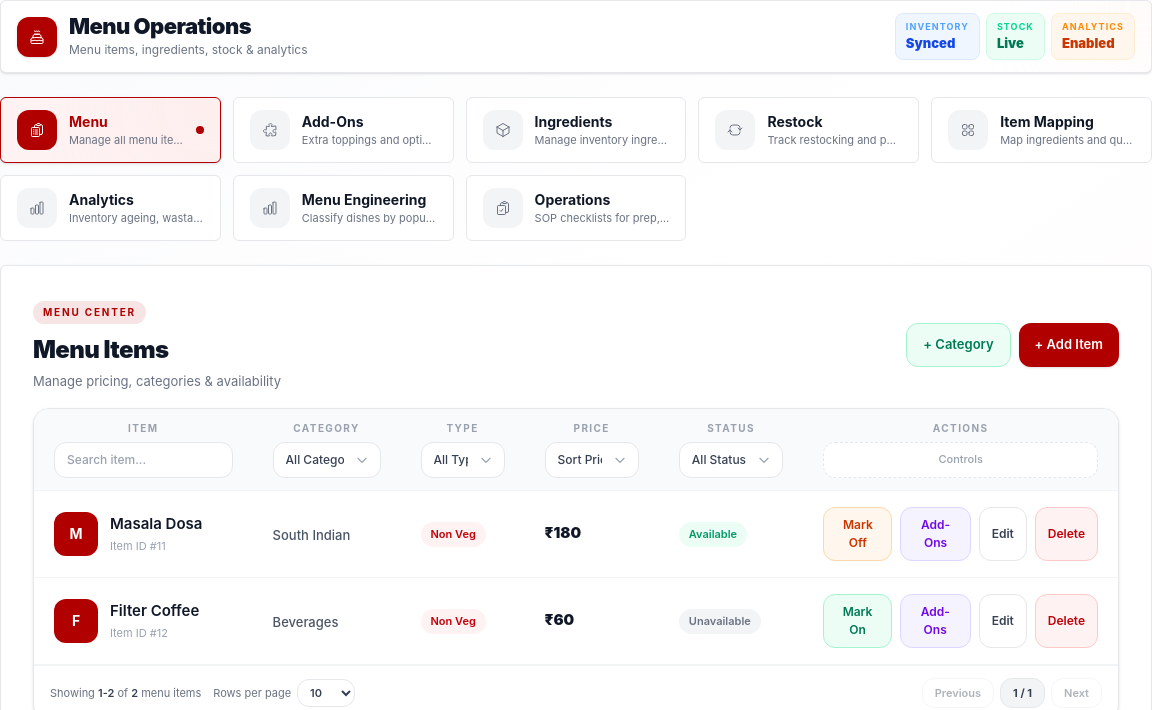
Test: Menu Management — characterisation › filters the Item Mapping list as you type in its search box
Expected: the heading "Menu Operations" is shown, [69,12,251,38]
Click the button "Item Mapping": (1042, 130) [931,97,1151,163]
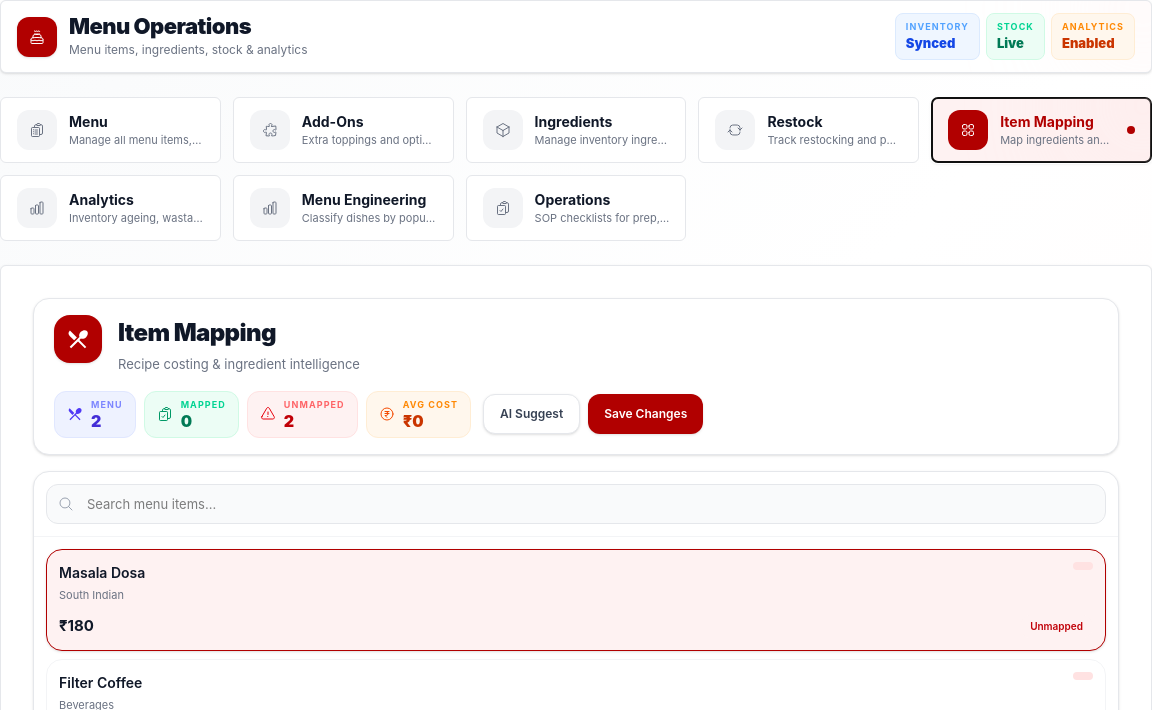
Expected: the heading "Filter Coffee" is shown, [59,672,142,693]
In the search field labelled "Search menu items": (576, 504) [46,484,1106,524], type "dosa"
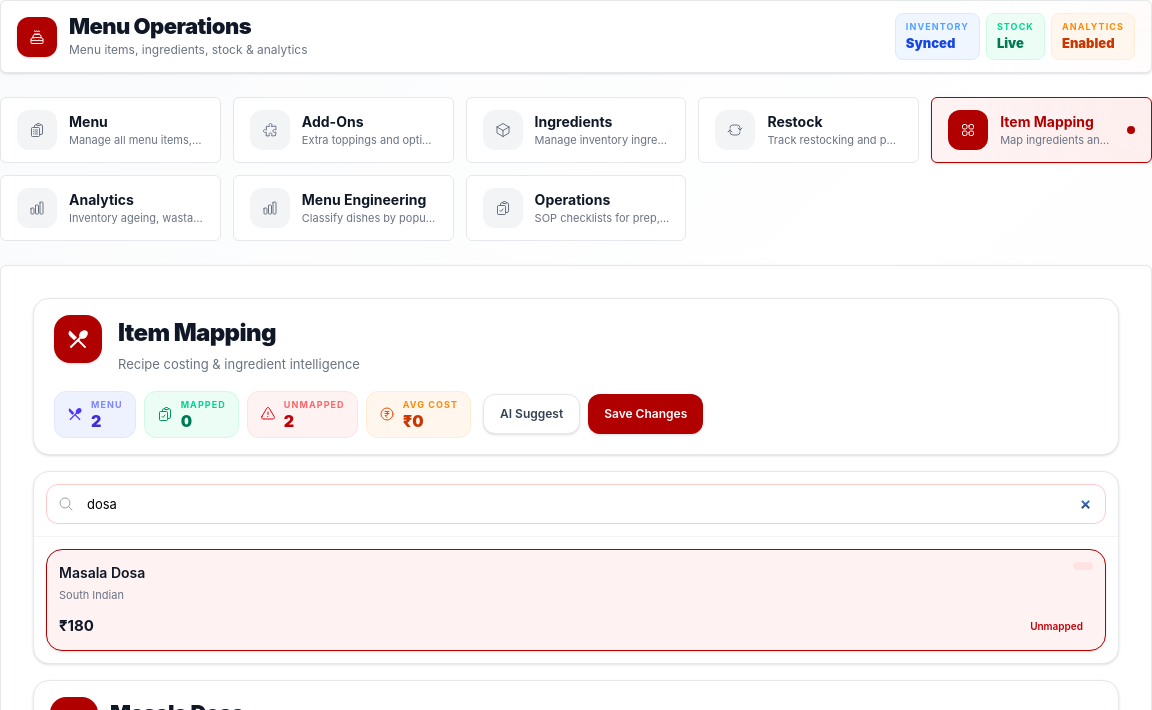
Now the 1st heading "Masala Dosa" is shown, box [59,562,145,582]
Now no headings "Filter Coffee" are shown
Replace the text in the search field named "Search menu items" with "zzz": (576, 504) [46,484,1106,524]
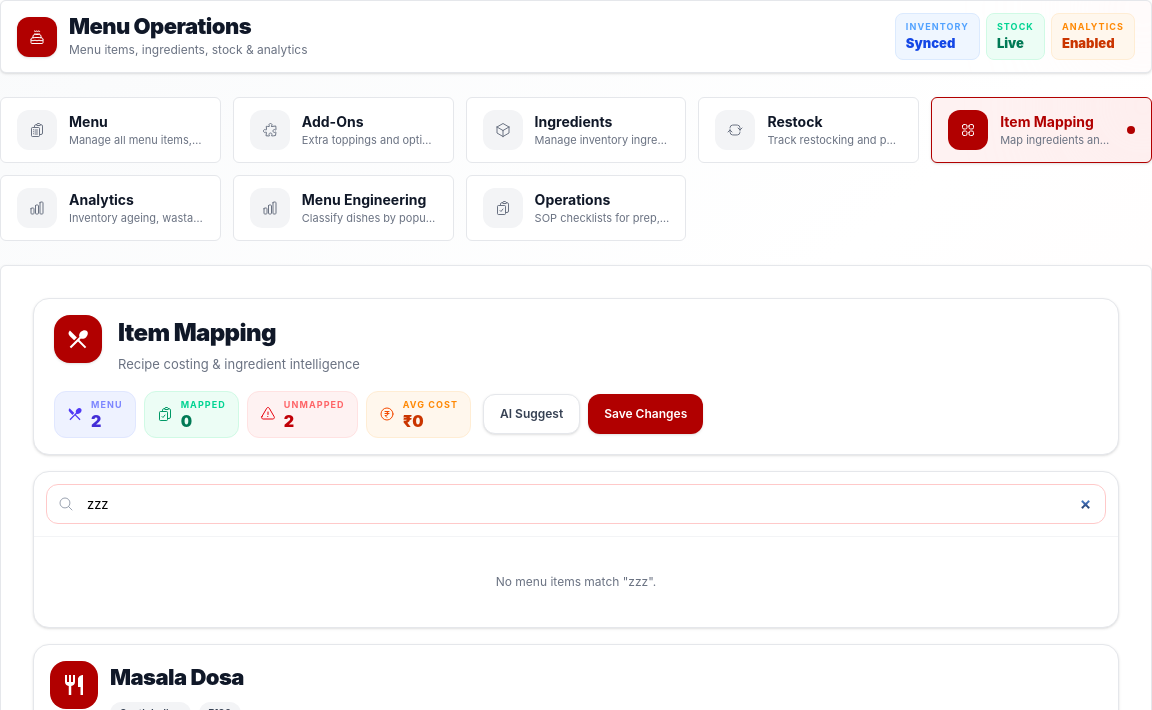
Now the text "No menu items match \"zzz\"." is shown, box [496,574,656,588]
